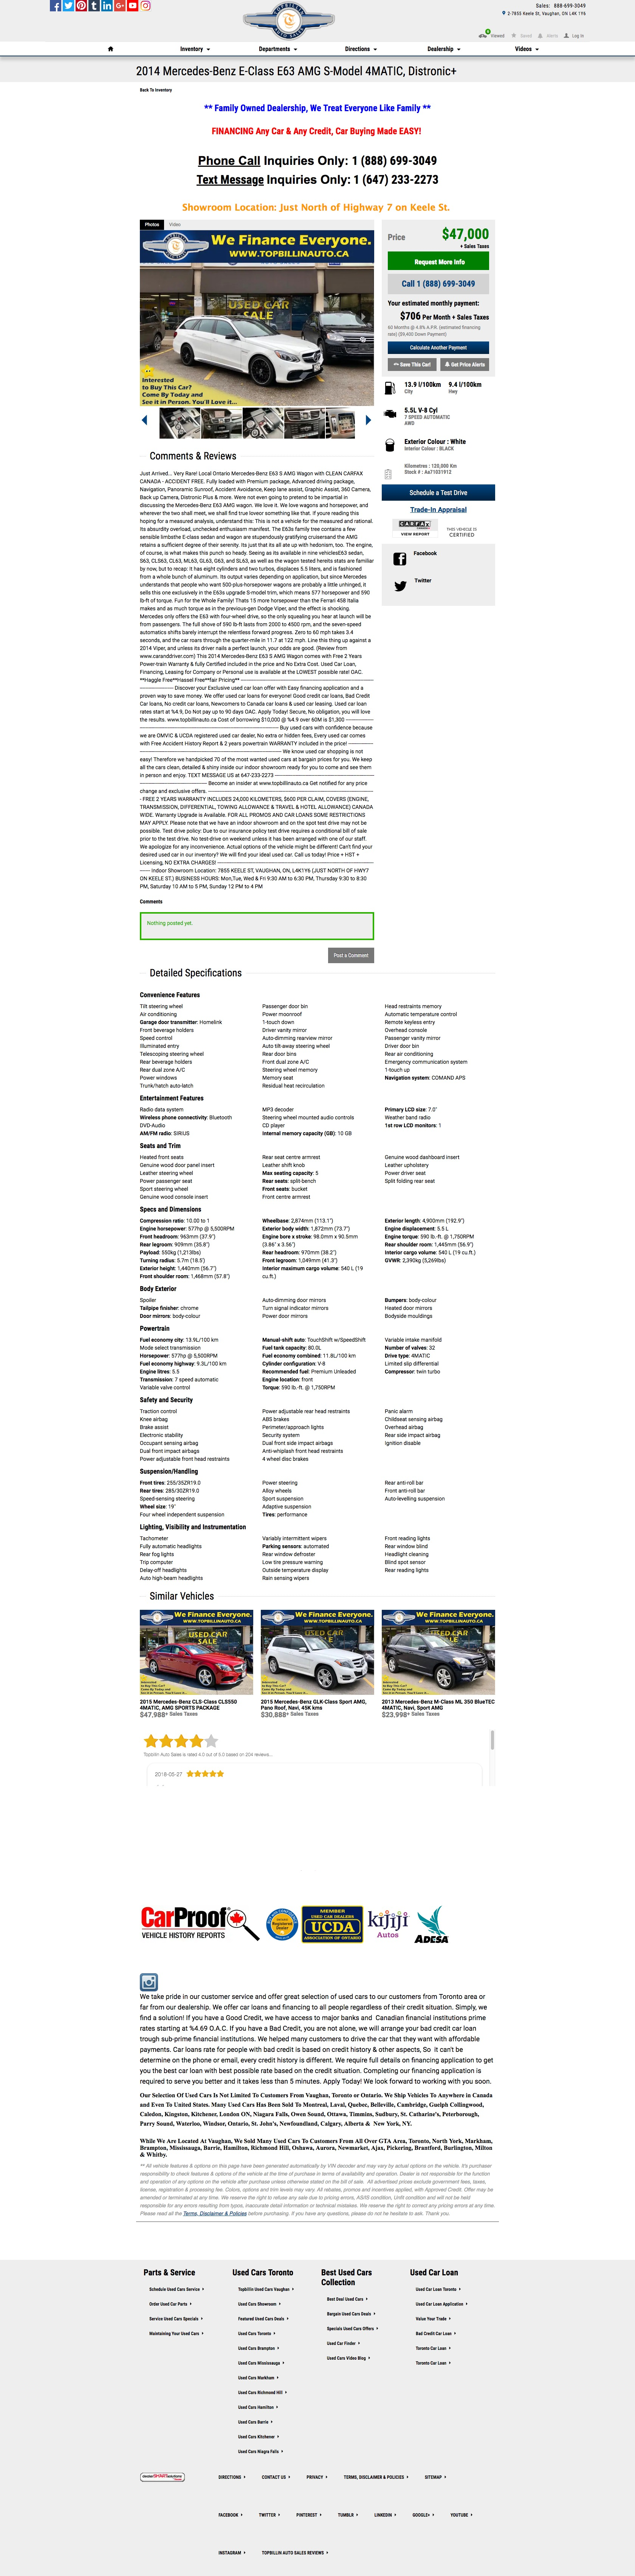car: (366, 416, 372, 425)
